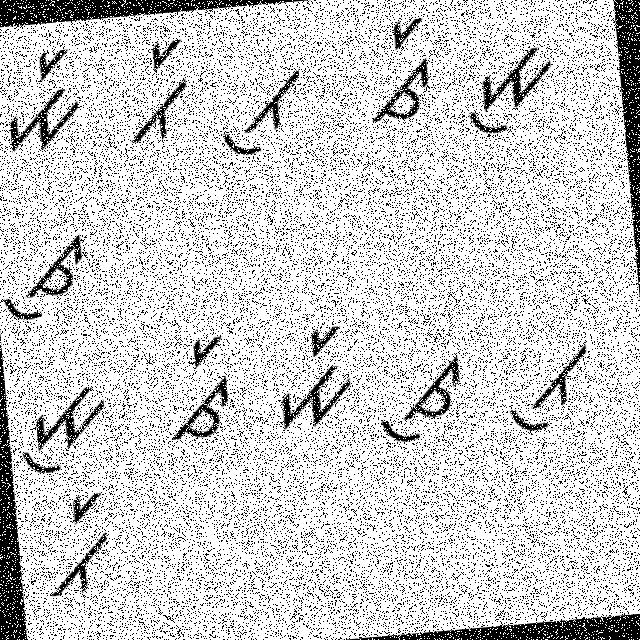bar: (116, 33, 205, 148), (40, 486, 118, 601)
baw: (496, 318, 601, 439), (214, 59, 313, 160)
car: (357, 4, 444, 131), (157, 326, 244, 449)
caw: (371, 343, 473, 454), (0, 222, 96, 326)
mar: (260, 319, 362, 445), (0, 35, 92, 164)
maw: (452, 24, 562, 142), (6, 364, 116, 482)
